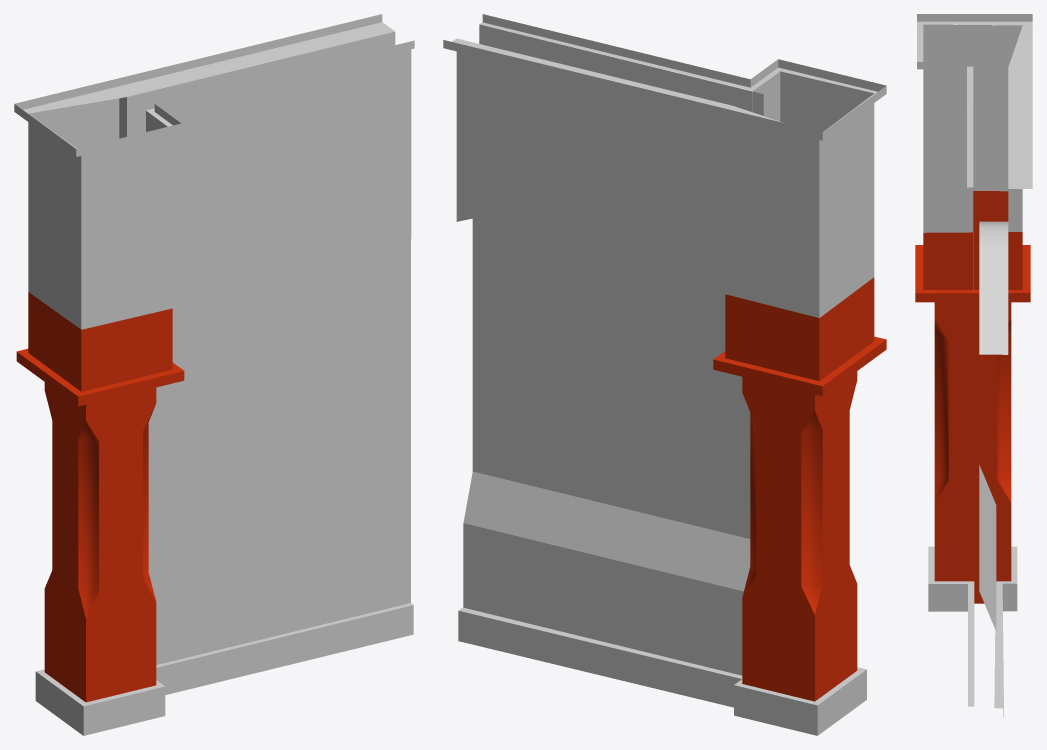
File: Entry 2 Wall 4.fbx
3 renders of one model, left to right at view 1: azimuth 30°, elevation 25°; view 2: azimuth 150°, elevation 25°; view 3: azimuth 270°, elevation 25°, orthographic. The views are drawn at different scales.
Parts seen in each view (by area): view 1: Cube.006; view 2: Cube.006; view 3: Cube.006.
Part boxes in pixels (x1,y1,x2,y2): Cube.006: (14, 14, 414, 735); Cube.006: (443, 14, 886, 735); Cube.006: (915, 14, 1032, 716).
Size of the model in its own units: 310 by 478 by 91.7.
